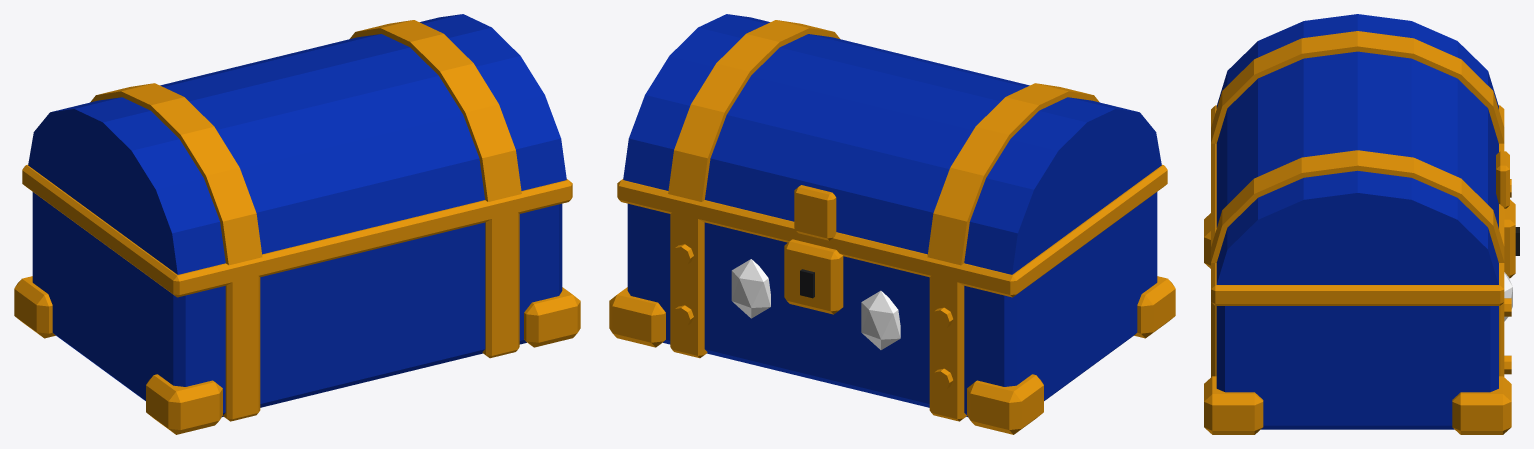
The model's file is chest_rare.fbx.
3 renders of one model, left to right at view 1: azimuth 30°, elevation 25°; view 2: azimuth 150°, elevation 25°; view 3: azimuth 270°, elevation 25°, orthographic. The views are drawn at different scales.
Parts seen in each view (by area): view 1: Lid, Base; view 2: Lid, Base; view 3: Lid, Base.
Boxes of the visible parts, x1=… form: Lid: x1=28, y1=14, x2=566, y2=274; Base: x1=14, y1=164, x2=580, y2=434; Lid: x1=623, y1=14, x2=1161, y2=274; Base: x1=609, y1=164, x2=1175, y2=434; Lid: x1=1211, y1=14, x2=1509, y2=284; Base: x1=1204, y1=105, x2=1519, y2=434.
Bounding box in the file's own units: 3.34 × 2.03 × 2.35.
